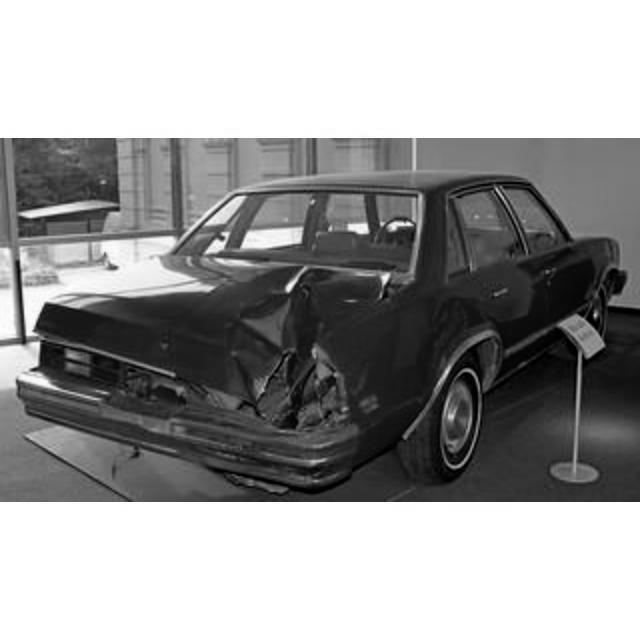boot-dent: (46, 248, 336, 374)
quaterpanel-dent: (326, 286, 476, 440)
rear-bumper-dent: (22, 320, 328, 434)
